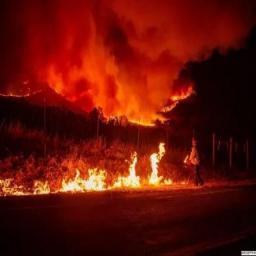Heavy smoke: (4, 2, 246, 79)
Medium fire: (0, 69, 200, 128)
Small fire: (2, 141, 189, 196)
